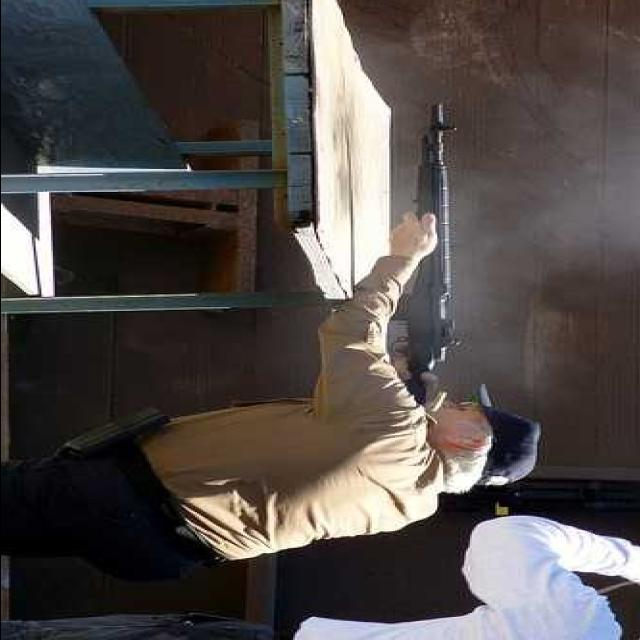heavyweapon: (326, 97, 486, 411)
